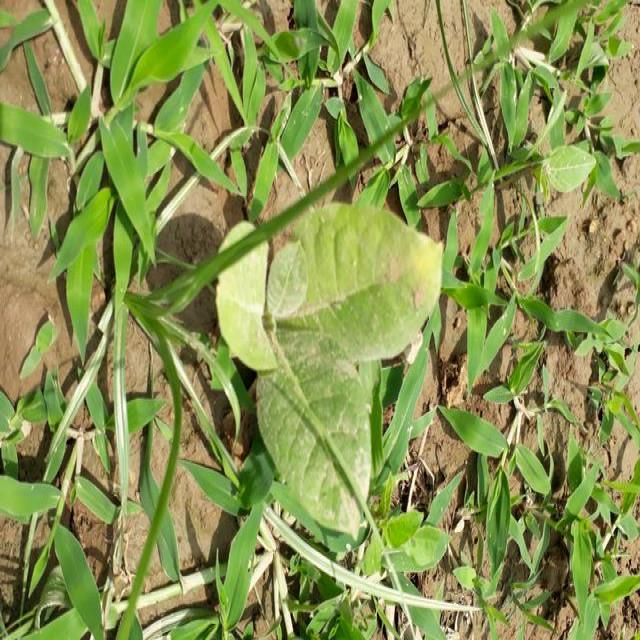crop: (212, 198, 442, 532)
